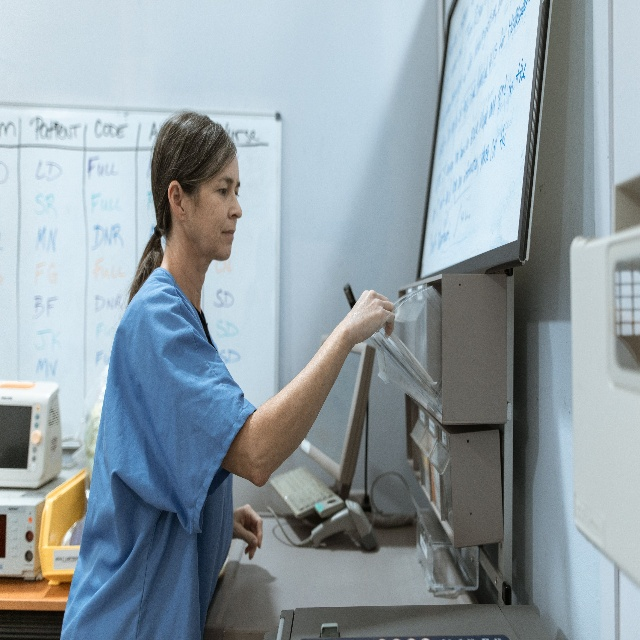Sin_guantes: (348, 288, 396, 344), (234, 509, 265, 560)
